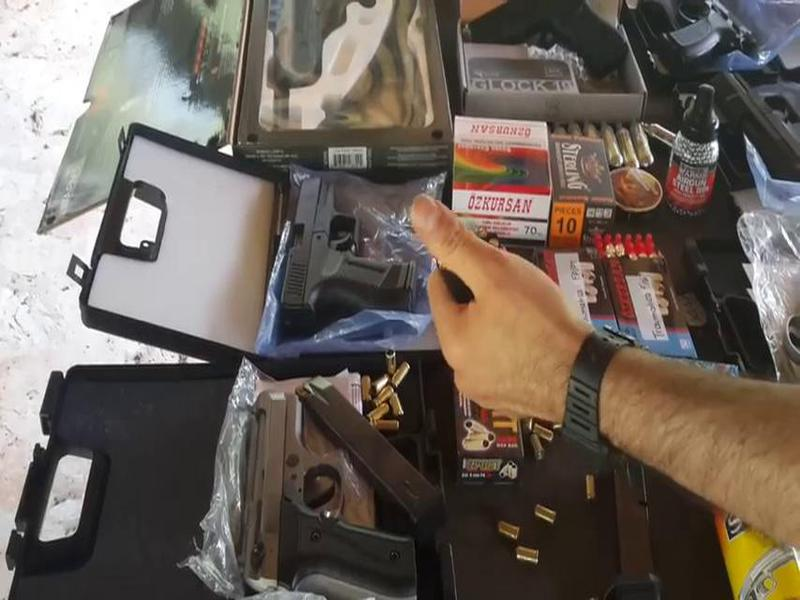Pistola: (230, 372, 427, 600), (272, 160, 430, 331)
